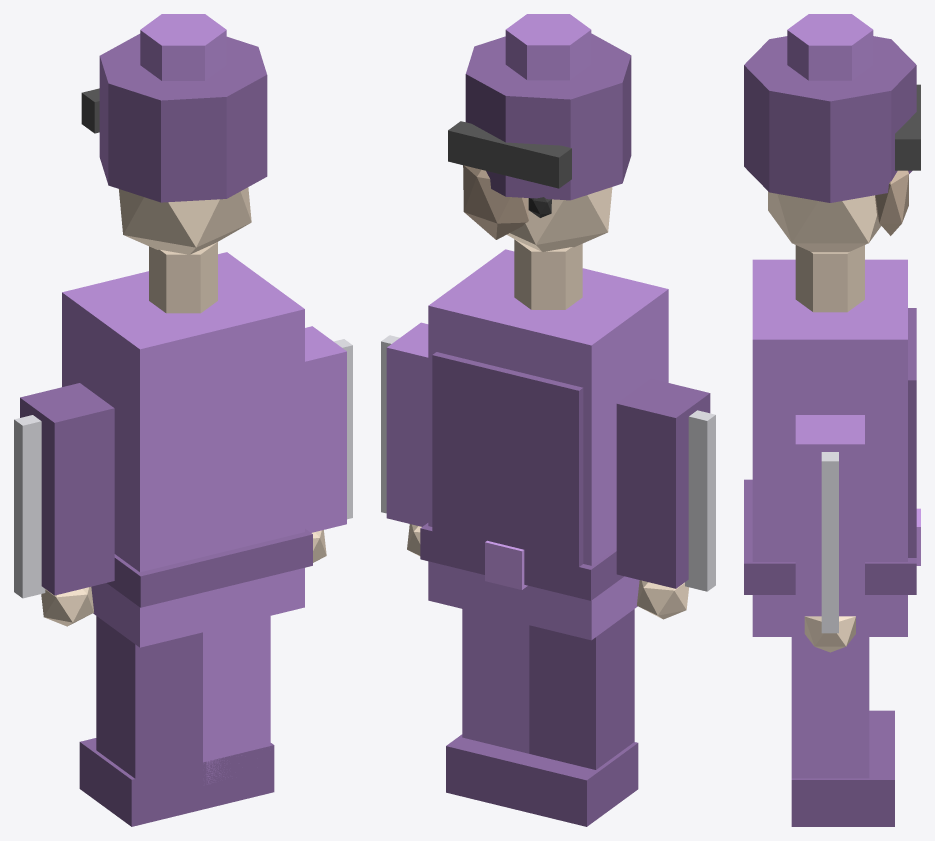
File: assassin.glb
The picture shows the model from 3 angles, left to right: view 1: azimuth 30°, elevation 25°; view 2: azimuth 150°, elevation 25°; view 3: azimuth 270°, elevation 25°; orthographic projection.
Parts seen in each view (by area): view 1: assassin; view 2: assassin; view 3: assassin.
Boxes of the visible parts, box(x1,y1,x2,y2) form: assassin: box(14, 14, 352, 826); assassin: box(381, 14, 715, 826); assassin: box(744, 14, 920, 826).
Size of the model in its own units: 0.88 by 1.95 by 0.41.
